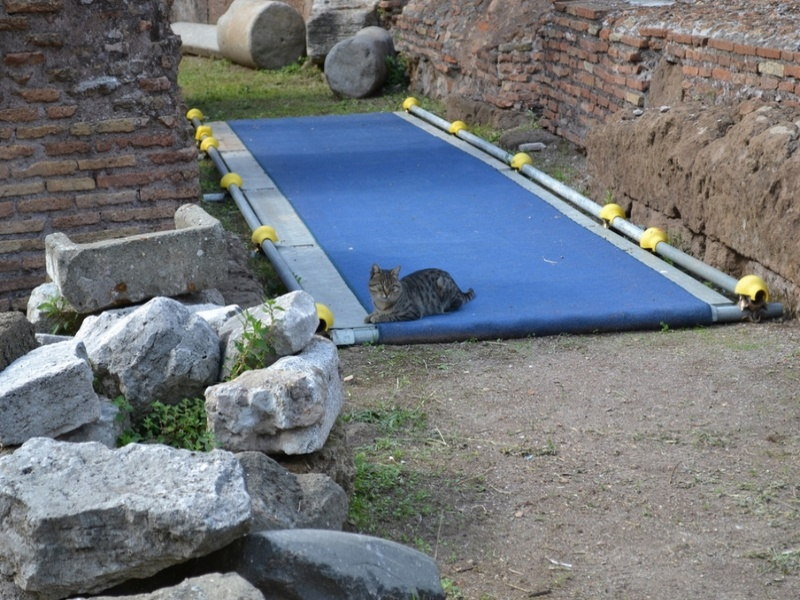cat: (361, 262, 478, 326)
